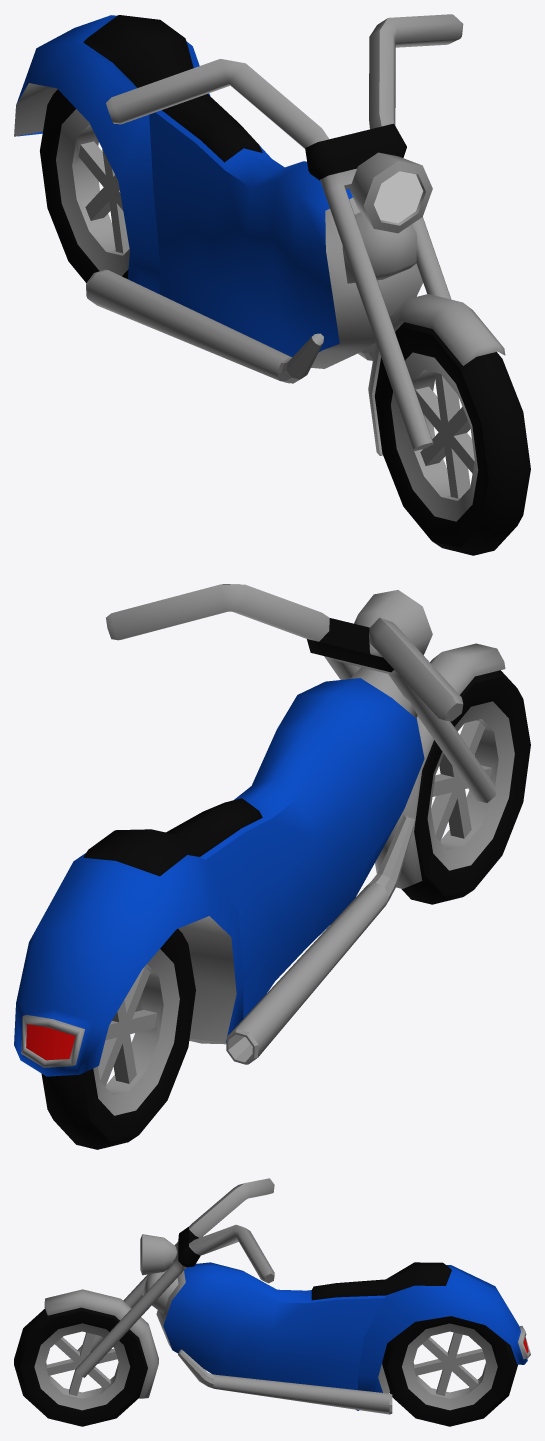
File: Bike.FBX
3 renders of one model, top to bottom at view 1: azimuth 30°, elevation 25°; view 2: azimuth 150°, elevation 25°; view 3: azimuth 270°, elevation 25°, orthographic. The views are drawn at different scales.
Visible parts, largest first — view 1: Bike, BikeHandle, WheelBike001, WheelBike; view 2: Bike, BikeHandle, WheelBike001, WheelBike; view 3: Bike, WheelBike001, BikeHandle, WheelBike.
Part boxes in pixels (x1,y1,x2,y2): Bike: [14, 15, 423, 383]; BikeHandle: [106, 14, 505, 455]; WheelBike001: [374, 322, 530, 555]; WheelBike: [40, 89, 129, 282]; Bike: [14, 667, 424, 1076]; BikeHandle: [106, 584, 505, 888]; WheelBike001: [401, 670, 530, 904]; WheelBike: [41, 929, 195, 1149]; Bike: [142, 1262, 530, 1414]; WheelBike001: [14, 1307, 147, 1426]; BikeHandle: [44, 1178, 274, 1398]; WheelBike: [382, 1316, 517, 1426].
Bounding box in the file's own units: 21.93 × 23.51 × 50.41.
